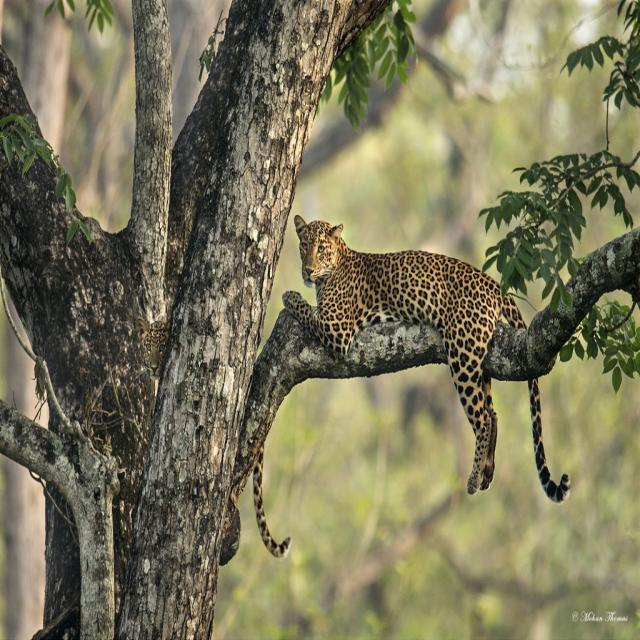Leopard: (294, 215, 573, 511)
